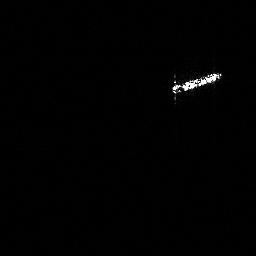ship: (172, 72, 222, 94)
